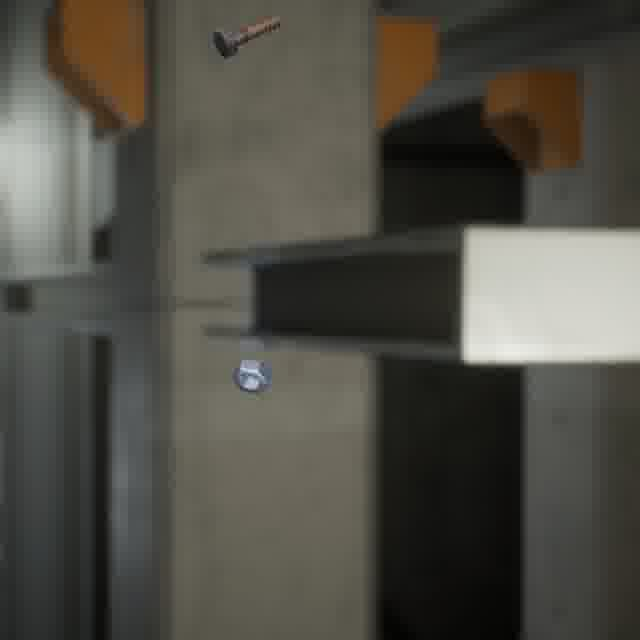bolt: (209, 9, 286, 62)
nut: (228, 354, 275, 397)
